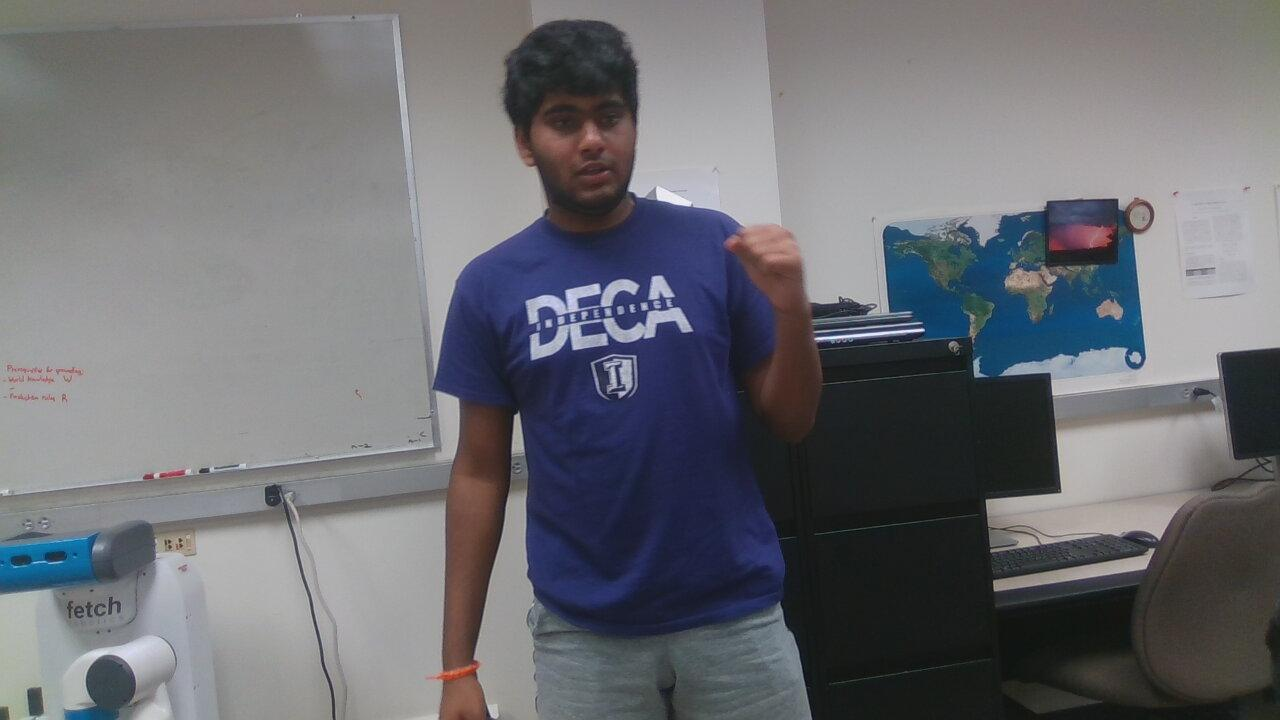fist: (721, 207, 827, 328)
